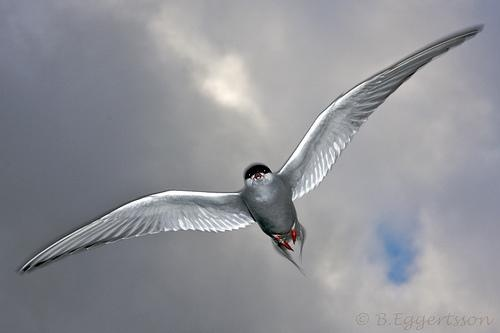bird: (12, 22, 485, 280)
